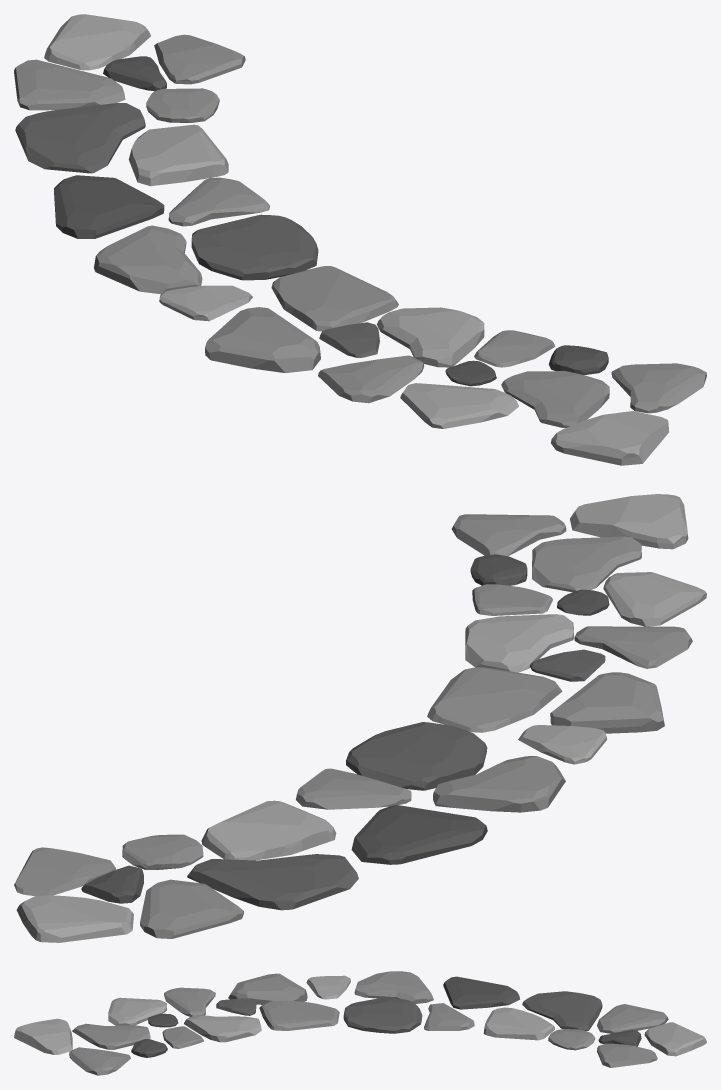
The model's file is CobbleStoneA01.fbx.
The picture shows the model from 3 angles, top to bottom: view 1: azimuth 30°, elevation 25°; view 2: azimuth 150°, elevation 25°; view 3: azimuth 270°, elevation 25°; orthographic projection. The views are drawn at different scales.
Parts seen in each view (by area): view 1: LOD0; view 2: LOD0; view 3: LOD0.
Part boxes in pixels (bbox=[...]): LOD0: bbox=[14, 14, 706, 465]; LOD0: bbox=[14, 494, 706, 942]; LOD0: bbox=[14, 971, 706, 1075].
Size of what is drawn, in the model's own units: 454 by 1328 by 21.76.
